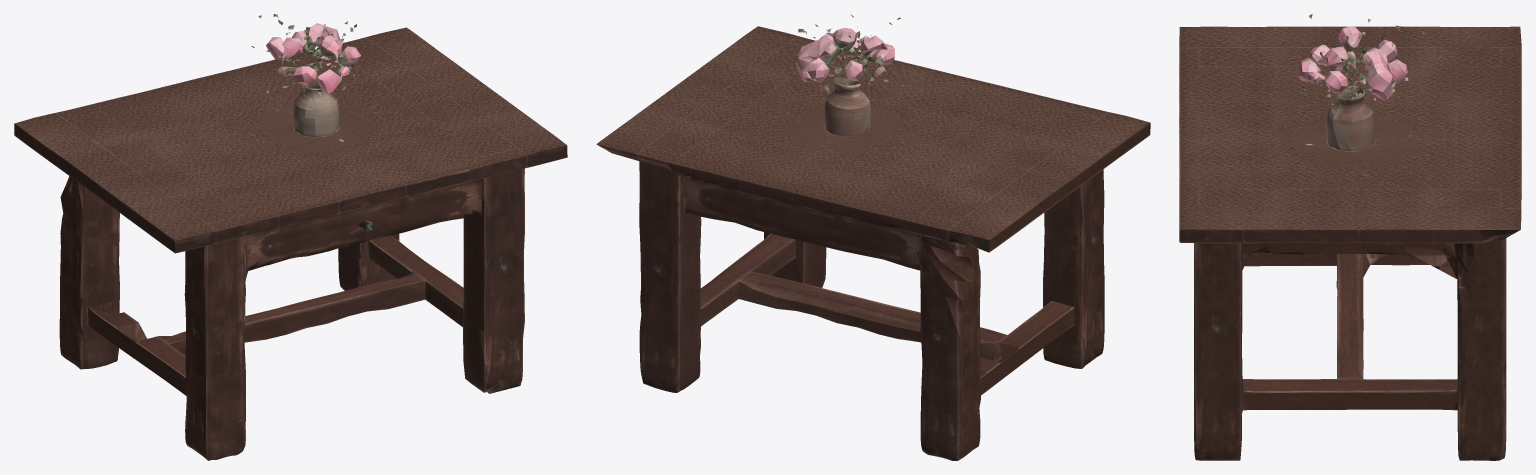
The model's file is table.glb.
3 renders of one model, left to right at view 1: azimuth 30°, elevation 25°; view 2: azimuth 150°, elevation 25°; view 3: azimuth 270°, elevation 25°, orthographic. The views are drawn at different scales.
Parts seen in each view (by area): view 1: Mesh0; view 2: Mesh0; view 3: Mesh0.
Part boxes in pixels (box(x1,y1,x2,y2)): Mesh0: box(14, 14, 567, 460); Mesh0: box(596, 14, 1150, 460); Mesh0: box(1179, 14, 1521, 460).
Size of the model in its own units: 1.9 by 1.59 by 1.35.
1 material, 1 textured.
